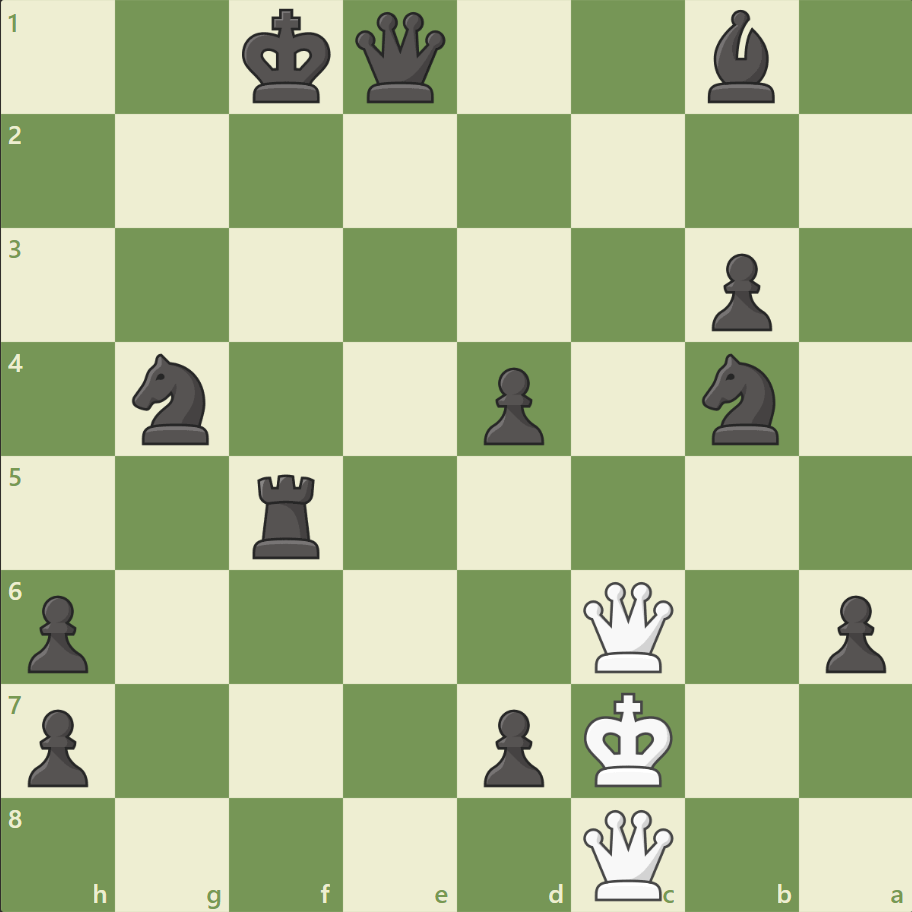K: (579, 685, 679, 793)
Q: (578, 576, 677, 676), (578, 804, 677, 903)
b: (698, 6, 782, 109)
k: (238, 4, 338, 112)
n: (124, 348, 222, 450), (692, 348, 789, 450)
p: (474, 700, 549, 791), (20, 700, 95, 791), (20, 586, 95, 677), (474, 359, 549, 450), (701, 246, 776, 337), (815, 586, 889, 677)
q: (351, 9, 450, 108)
r: (246, 466, 329, 563)
